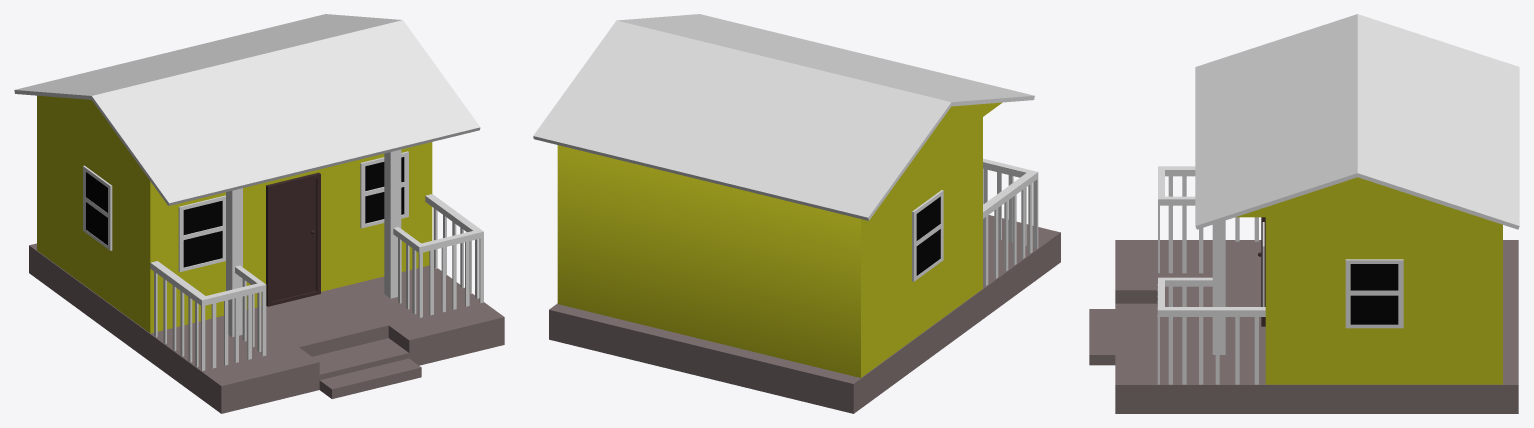
The model's file is farmhouse_yellow.fbx.
The picture shows the model from 3 angles, left to right: view 1: azimuth 30°, elevation 25°; view 2: azimuth 150°, elevation 25°; view 3: azimuth 270°, elevation 25°; orthographic projection. The views are drawn at different scales.
Visible parts, largest first — view 1: polySurface7; view 2: polySurface7; view 3: polySurface7.
Part boxes in pixels (box(x1,y1,x2,y2)): polySurface7: box(14, 14, 504, 413); polySurface7: box(533, 14, 1060, 413); polySurface7: box(1089, 14, 1519, 413).
Bounding box in the file's own units: 17.59 × 12.79 × 20.12.
